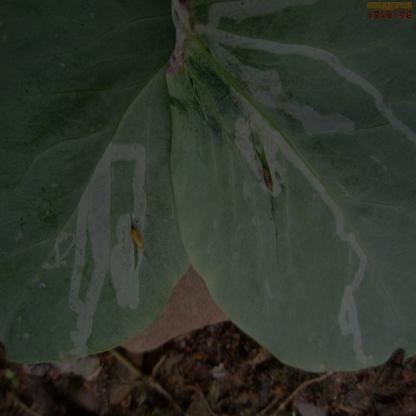whorl-maggot: (258, 161, 276, 199), (127, 219, 146, 252)
